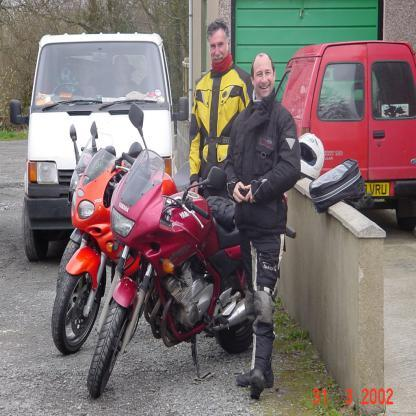car: (7, 31, 188, 256), (273, 42, 415, 233)
